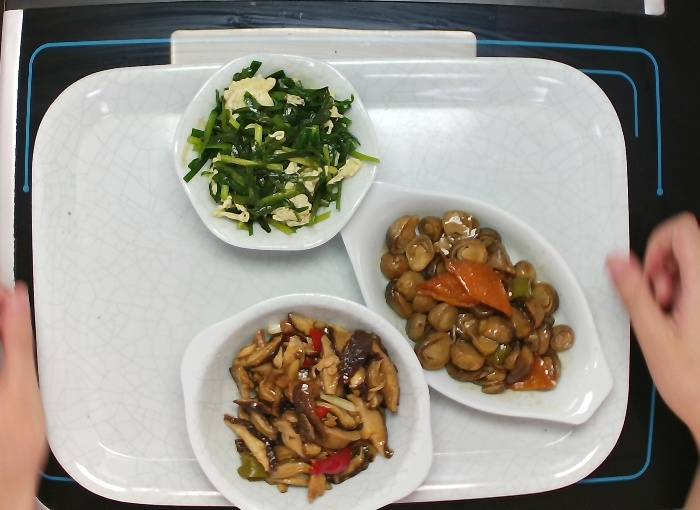JYsf-Shuang_Er_Wan: (174, 291, 439, 510)
JYsf-Yu_Pan: (338, 171, 621, 432)
WCQzf-Hua_Duo_Wan: (172, 42, 388, 255)
